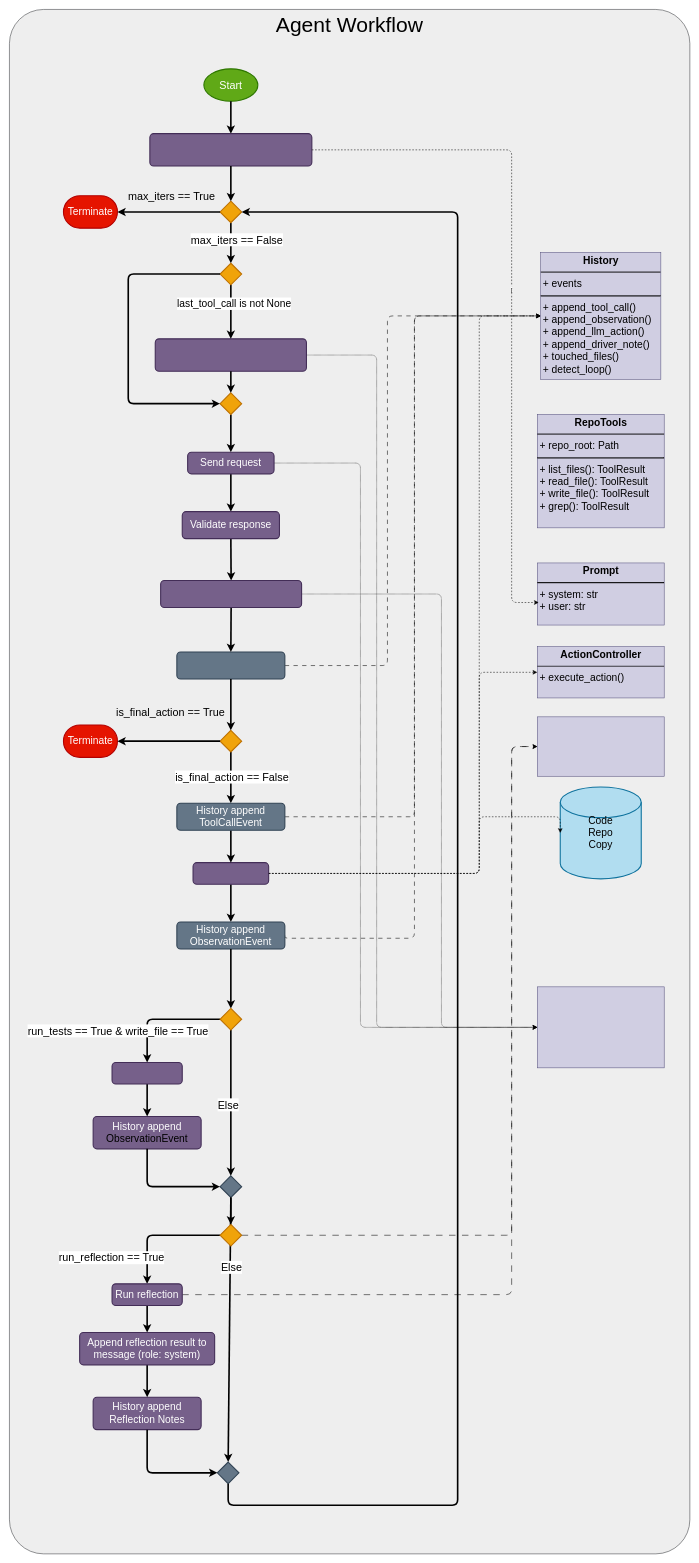
This 699x1563 diagram has some shape labels left out. The shapes that lost their labels are listed below. From the top down, each one's box as (x1, y1, x2, y2) in pixels, then its label:
(149, 133, 312, 166): Seed Conversation (role: system) (role: user)
(154, 338, 307, 372): Append result of last action to message (role: tool)
(160, 580, 302, 608): Append tool_call to message (role: assistant)
(176, 651, 285, 679): History append LLMActionEvent
(537, 716, 664, 776): ReflectionController + should_reflect() + run_reflection()
(192, 862, 269, 885): Execute Action
(537, 986, 664, 1068): LLM + next_action() + reflect() + start_conversation()
(111, 1062, 183, 1084): Run Tests
